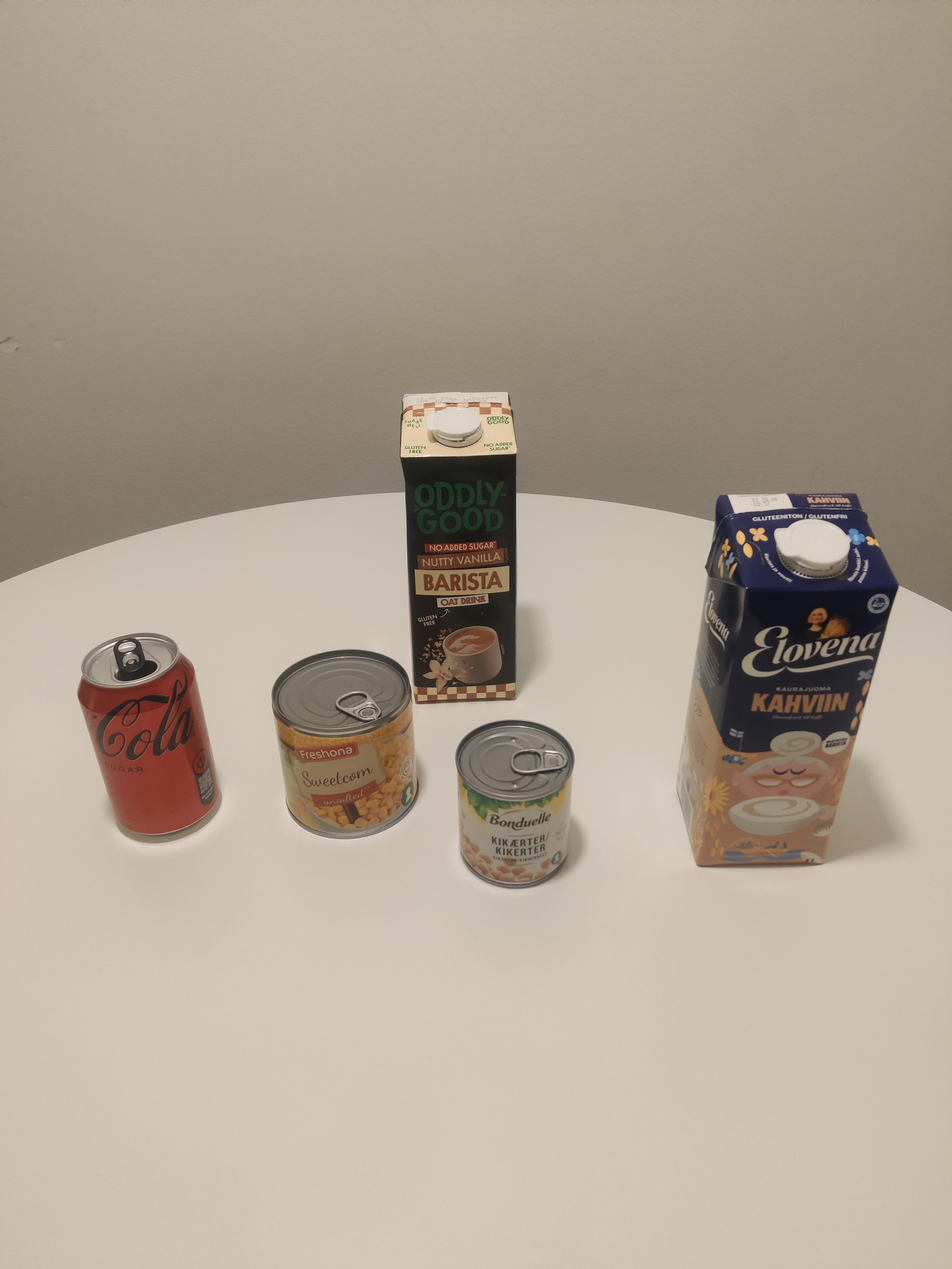Dryckeskartong: (667, 492, 900, 869), (383, 393, 522, 712)
Konservburk: (264, 651, 415, 849), (445, 716, 574, 889)
Pantburk: (39, 632, 219, 839)
